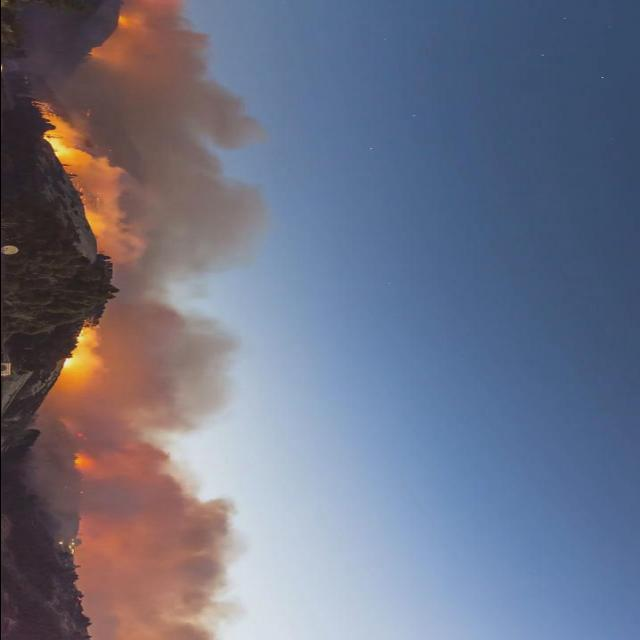Fire: (36, 97, 94, 171), (57, 325, 98, 371), (78, 202, 110, 236), (112, 14, 136, 29), (74, 451, 88, 469), (66, 542, 76, 554)
